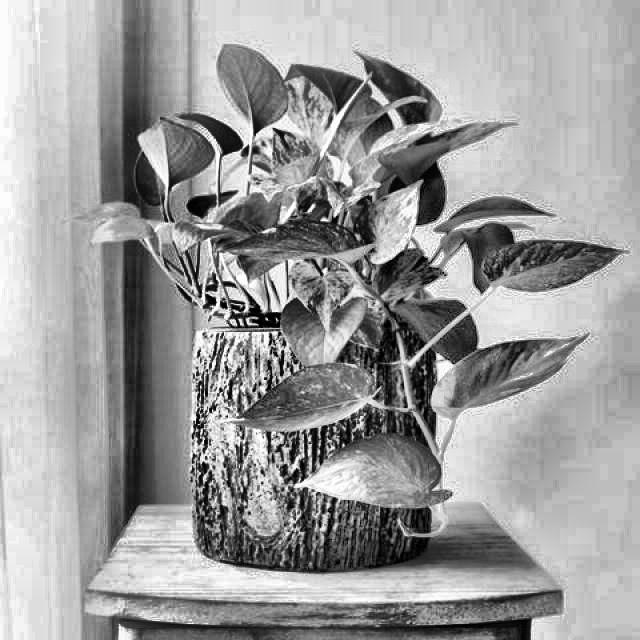plants: (96, 52, 596, 574)
